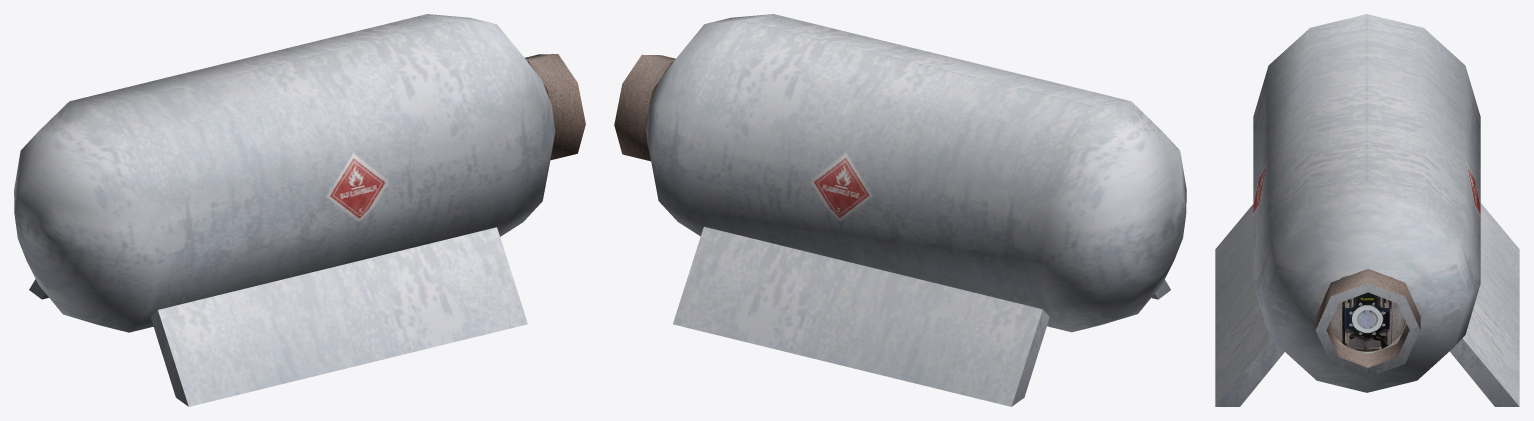
File: OTANK01.glb
The picture shows the model from 3 angles, left to right: view 1: azimuth 30°, elevation 25°; view 2: azimuth 150°, elevation 25°; view 3: azimuth 270°, elevation 25°; orthographic projection. The views are drawn at different scales.
Visible parts, largest first — view 1: _OTANK01; view 2: _OTANK01; view 3: _OTANK01.
Part boxes in pixels (x1,y1,x2,y2): _OTANK01: [14, 14, 585, 406]; _OTANK01: [614, 14, 1186, 406]; _OTANK01: [1215, 14, 1519, 406].
Bounding box in the file's own units: 5.96 × 2.61 × 3.12.
Materials: 4 (4 with a texture image).
